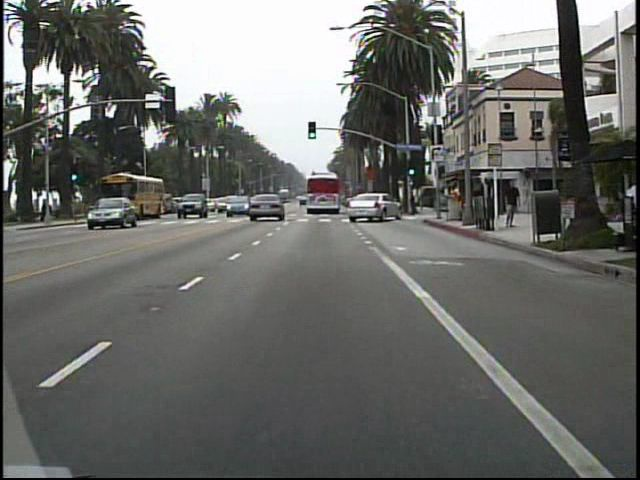person: (500, 177, 521, 233), (471, 181, 489, 225), (448, 181, 463, 222)
